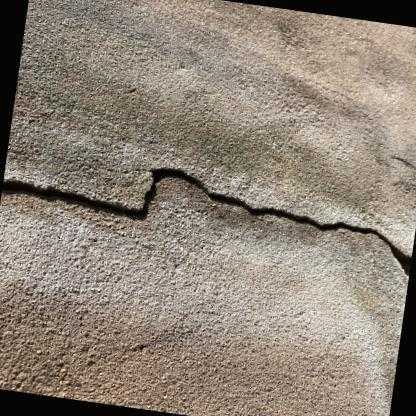crack: (0, 168, 411, 276)
